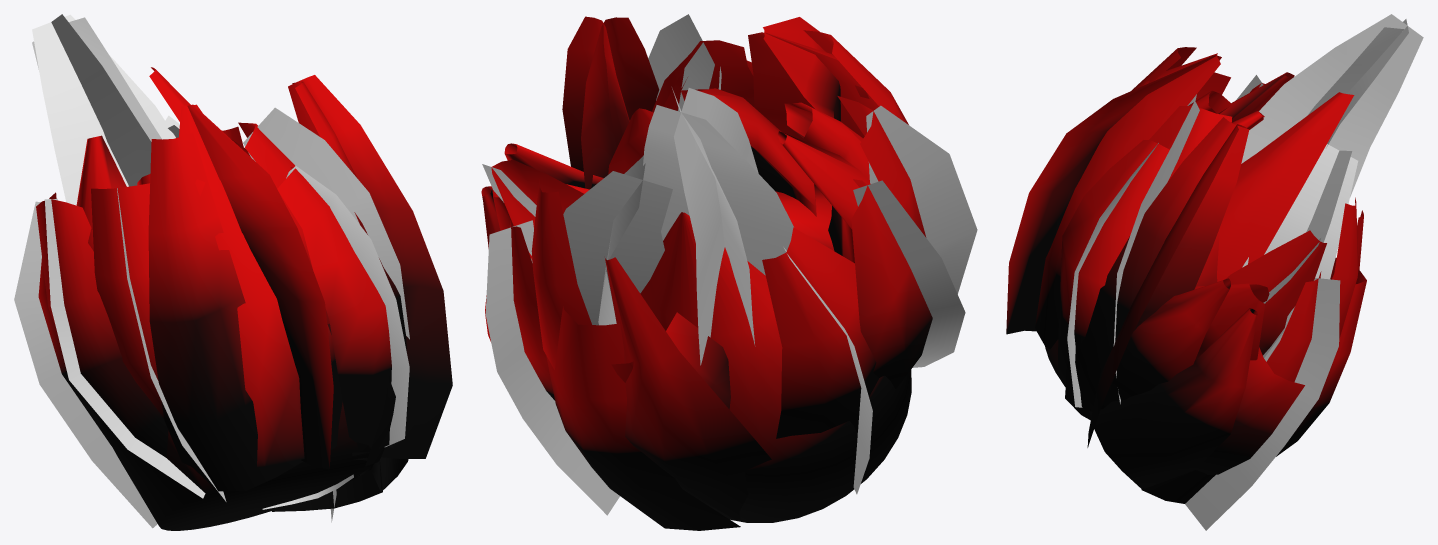
Rendered from Hair_P2.fbx.
3 views of the same model, side by side, from view 1: azimuth 30°, elevation 25°; view 2: azimuth 150°, elevation 25°; view 3: azimuth 270°, elevation 25° (orthographic). The views are drawn at different scales.
Visible parts, largest first — view 1: Plane.007, Plane.057, Plane.035, Plane.013, Plane.055, Plane.113, Plane.016, Plane.041, Plane.032, Plane.012, Plane.023, Plane.036 (+2 smaller); view 2: Plane.041, Plane.113, Plane.038, Plane.032, Plane.055, Plane.034, Plane.036, Plane.013, Plane.027, Plane.016, Plane.057, Plane.012 (+10 smaller); view 3: Plane.013, Plane.057, Plane.046, Plane.113, Plane.036, Plane.035, Plane.018, Plane.049, Plane.027, Plane.047, Plane.054, Plane.012 (+7 smaller).
Boxes of the visible parts, bbox=[...] form: Plane.007: bbox=[148, 132, 303, 491]; Plane.057: bbox=[179, 104, 342, 469]; Plane.035: bbox=[277, 166, 409, 455]; Plane.013: bbox=[288, 75, 452, 466]; Plane.055: bbox=[36, 198, 205, 498]; Plane.113: bbox=[32, 14, 175, 205]; Plane.016: bbox=[91, 183, 226, 501]; Plane.041: bbox=[96, 323, 374, 530]; Plane.032: bbox=[14, 192, 157, 528]; Plane.012: bbox=[238, 107, 409, 339]; Plane.023: bbox=[76, 135, 126, 250]; Plane.036: bbox=[272, 460, 382, 522]; Plane.041: bbox=[640, 186, 911, 522]; Plane.113: bbox=[643, 88, 793, 365]; Plane.038: bbox=[605, 257, 771, 519]; Plane.032: bbox=[762, 227, 879, 494]; Plane.055: bbox=[851, 179, 965, 388]; Plane.034: bbox=[546, 306, 740, 530]; Plane.036: bbox=[485, 220, 619, 515]; Plane.013: bbox=[562, 16, 659, 189]; Plane.027: bbox=[563, 156, 672, 325]; Plane.016: bbox=[837, 96, 977, 293]; Plane.057: bbox=[748, 17, 878, 185]; Plane.012: bbox=[648, 14, 754, 112]; Plane.013: bbox=[1065, 117, 1249, 447]; Plane.057: bbox=[1006, 53, 1221, 349]; Plane.046: bbox=[1089, 308, 1257, 488]; Plane.113: bbox=[1241, 14, 1423, 197]; Plane.036: bbox=[1141, 271, 1340, 530]; Plane.035: bbox=[1058, 140, 1169, 411]; Plane.018: bbox=[1217, 92, 1354, 281]; Plane.049: bbox=[1111, 278, 1230, 401]; Plane.027: bbox=[1242, 144, 1358, 357]; Plane.047: bbox=[1196, 347, 1304, 474]; Plane.054: bbox=[1225, 230, 1326, 355]; Plane.012: bbox=[1113, 101, 1232, 404].
Size of the model in its own units: 287 by 356 by 305.
